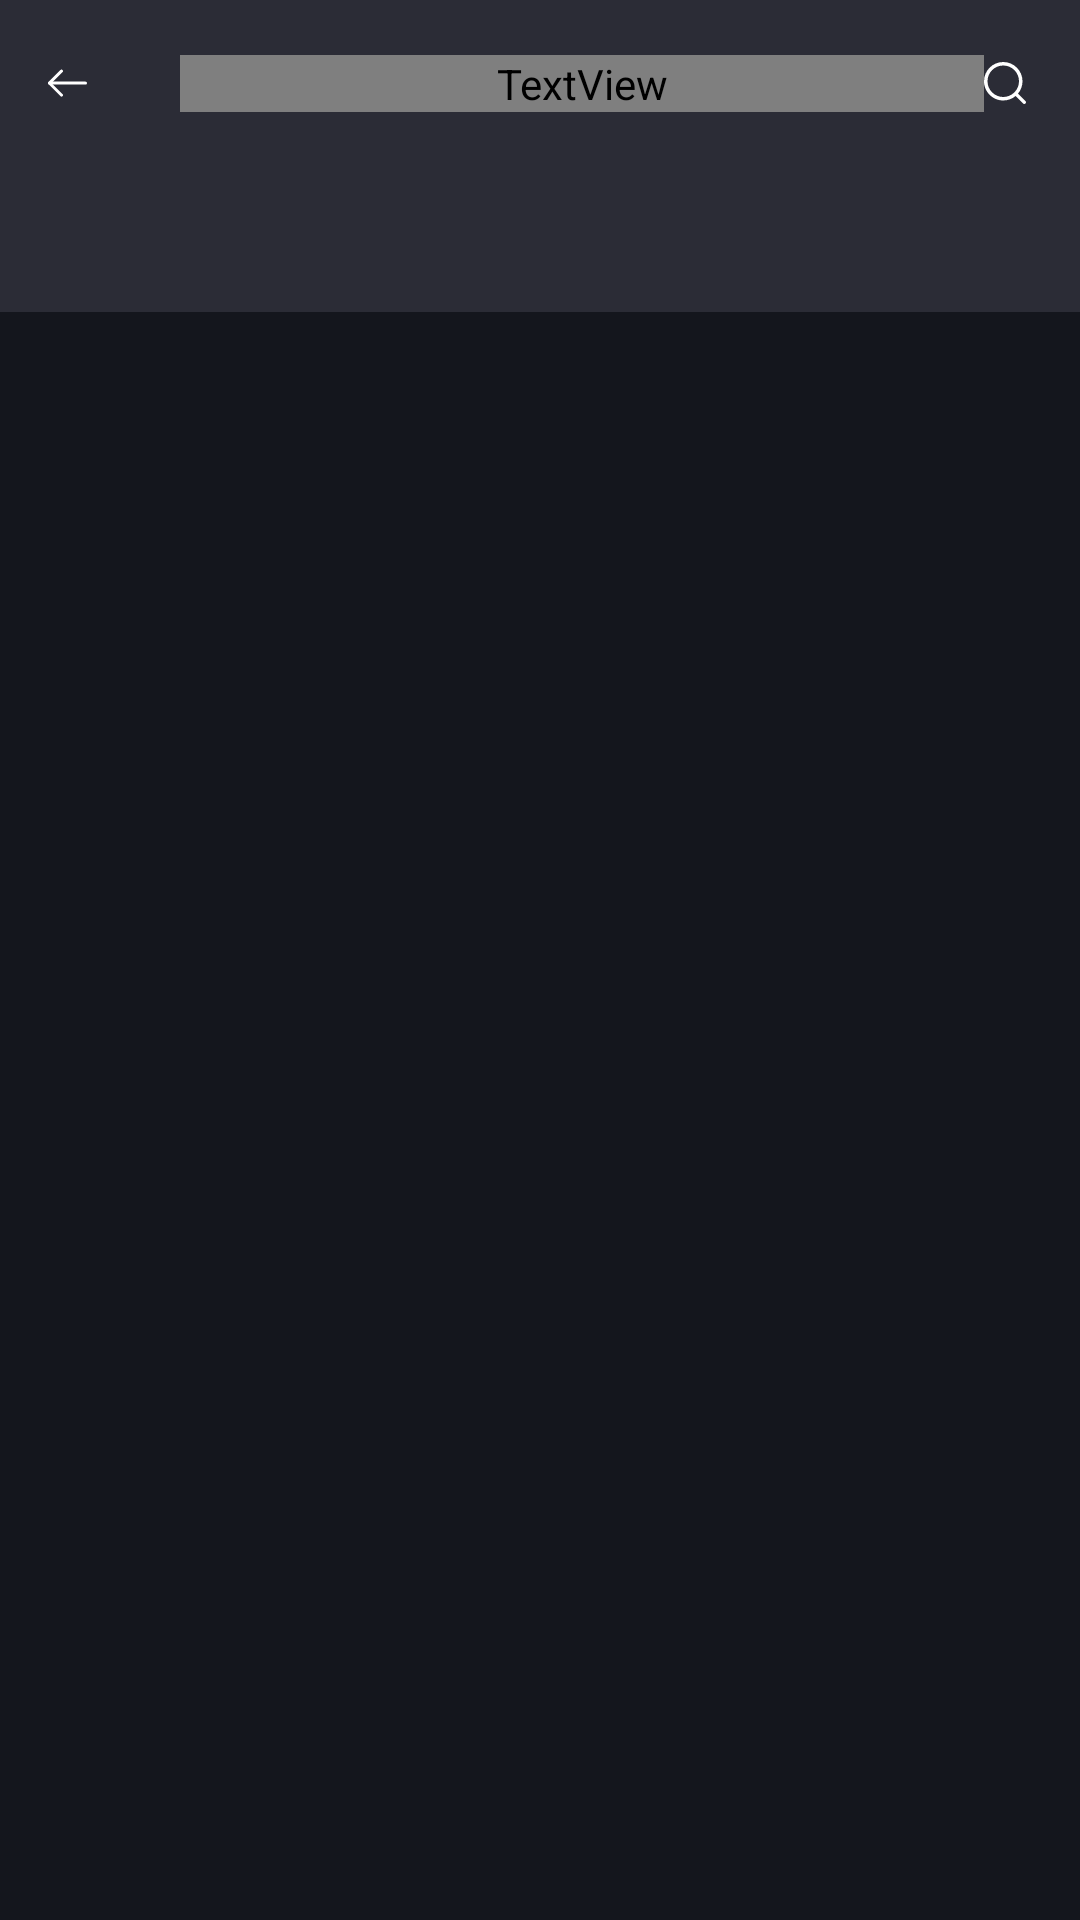

Named icons in this screenshot (1080 × 1920) and their bounding boxes, (x1, y1, x2, y2):
arrow back: (48, 69, 87, 97)
